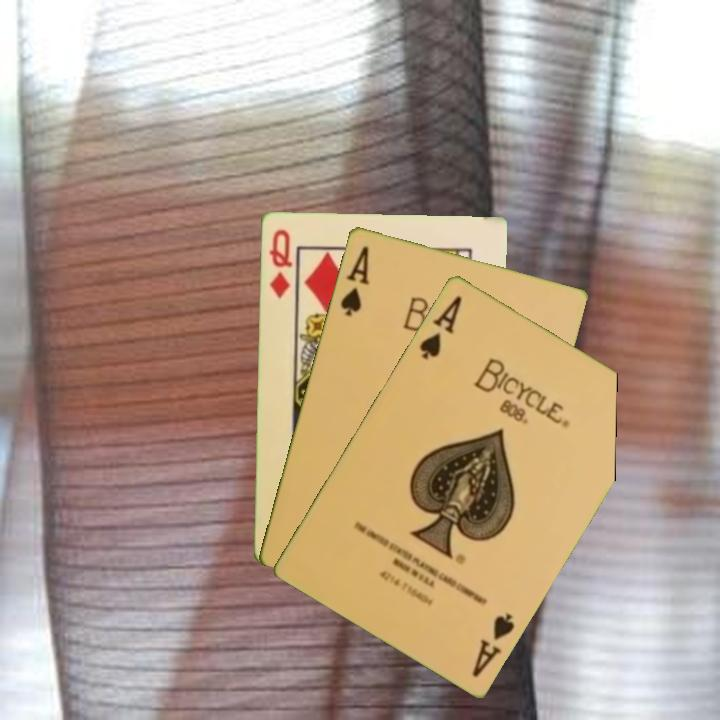As: (468, 608, 518, 680), (415, 291, 465, 362), (336, 242, 373, 319)
Qd: (265, 225, 295, 301)
